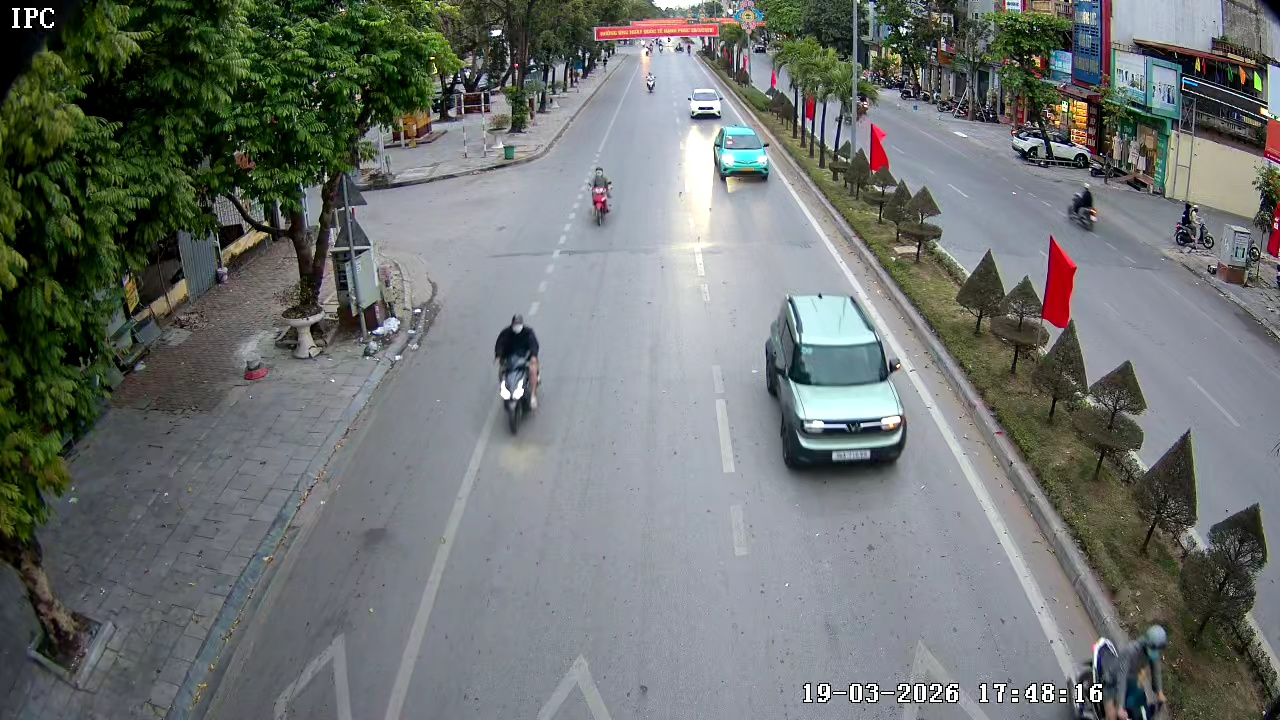car: (763, 293, 908, 470), (712, 122, 771, 185), (686, 87, 723, 120)
motorbike: (492, 312, 544, 436), (1173, 202, 1217, 255), (585, 164, 616, 228), (1067, 179, 1100, 232), (646, 70, 657, 92)
